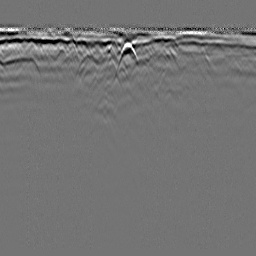cavity: (117, 39, 138, 63)
